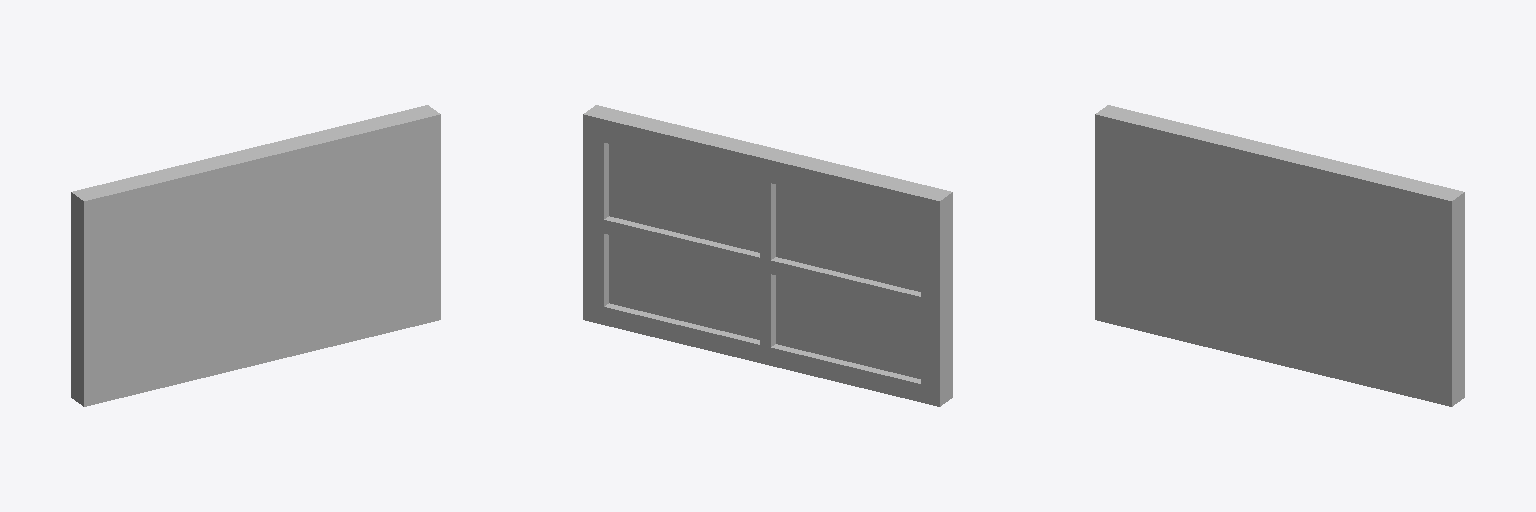
The model's file is ventana6.obj.
The picture shows the model from 3 angles: view 1: azimuth 30°, elevation 25°; view 2: azimuth 150°, elevation 25°; view 3: azimuth 330°, elevation 25°; orthographic projection.
Visible parts, largest first — view 1: pCube17; view 2: pCube17; view 3: pCube17.
Part boxes in pixels (x1,y1,x2,y2): pCube17: (71, 105, 440, 406); pCube17: (583, 105, 952, 406); pCube17: (1095, 105, 1464, 406).
Size of the model in its own units: 2.06 by 1.14 by 0.1302.